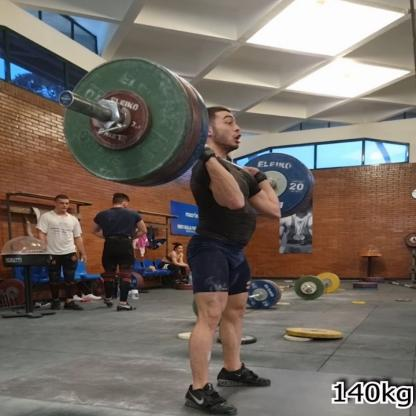barbell: (64, 59, 189, 184), (235, 154, 312, 218)
